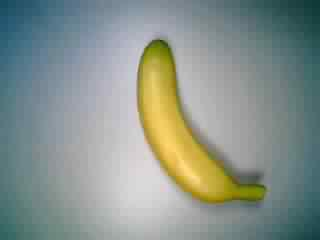banana: (137, 39, 267, 207)
